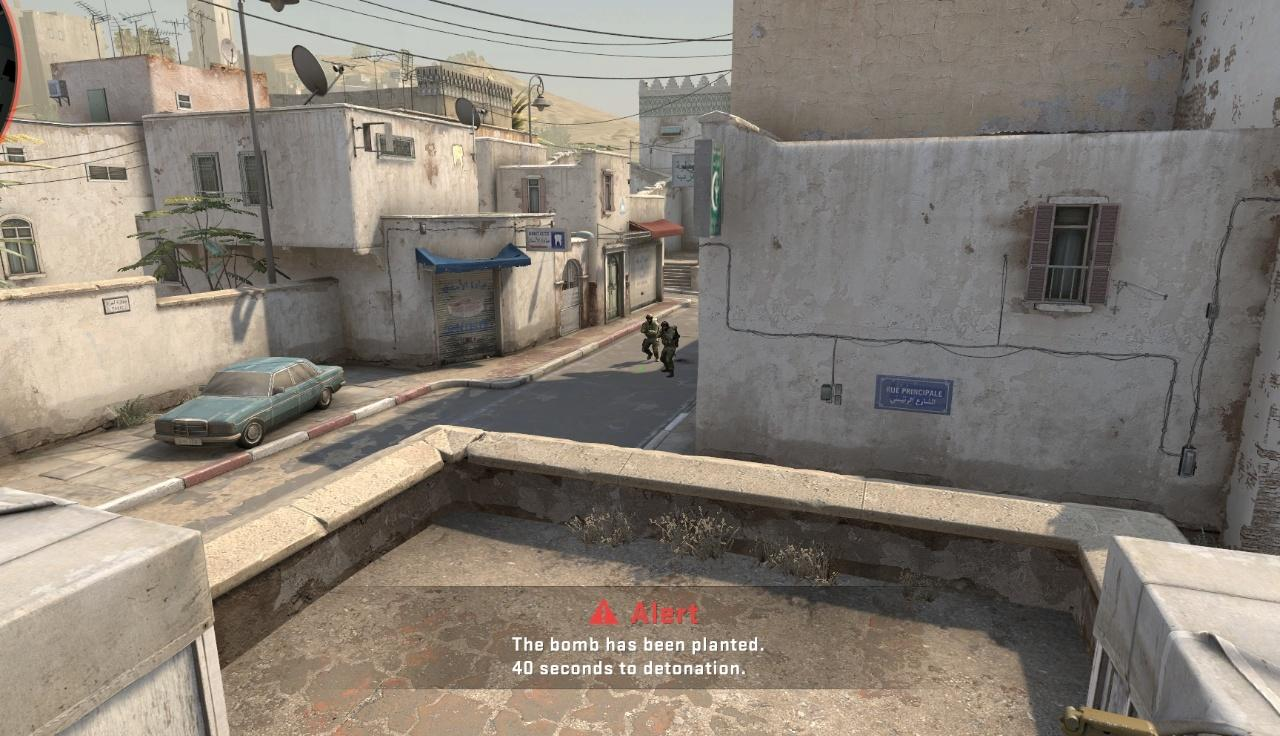ct: (661, 321, 676, 376), (641, 315, 658, 361)
cthead: (661, 321, 669, 331), (646, 315, 653, 323)
